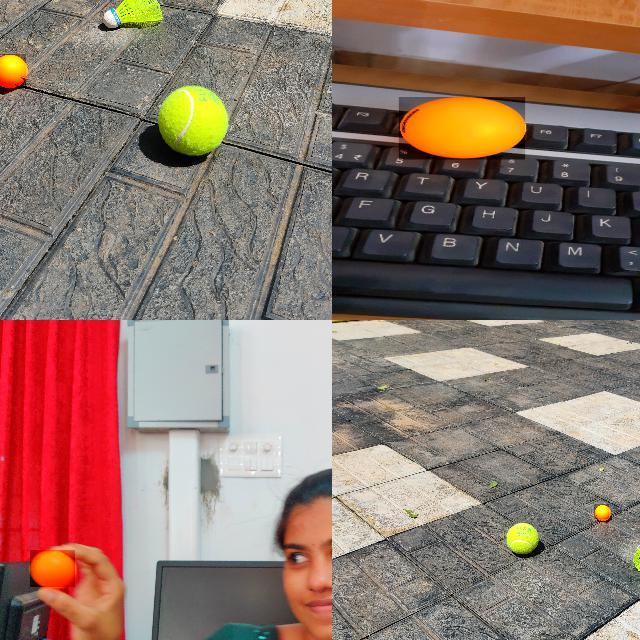ping-pong-ball: (399, 97, 526, 160), (30, 550, 76, 588), (0, 54, 28, 91), (594, 504, 610, 520)
